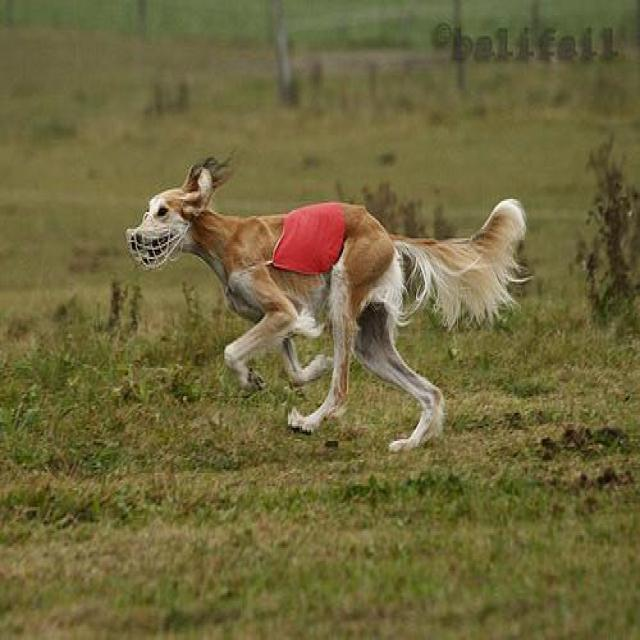saluki: (126, 156, 528, 452)
